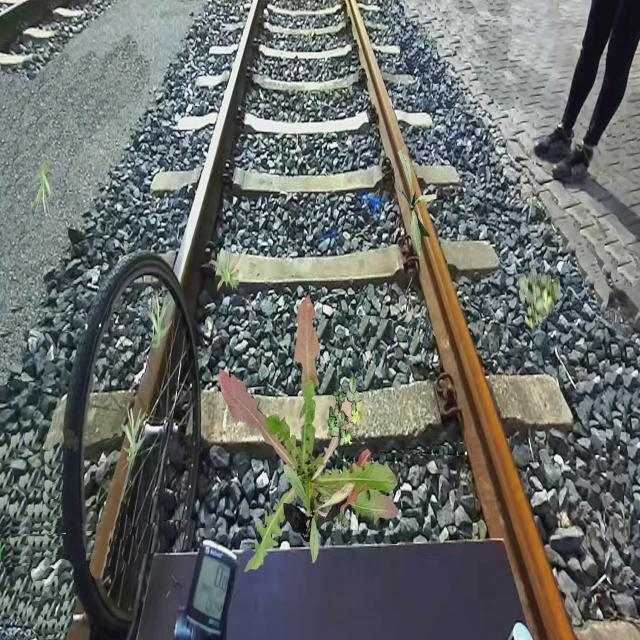Plant: (219, 294, 399, 572), (283, 464, 354, 564), (397, 148, 437, 258), (517, 264, 560, 331), (328, 376, 366, 449), (29, 159, 56, 216), (209, 246, 242, 292), (121, 406, 148, 462), (146, 293, 172, 350), (321, 494, 348, 535)
